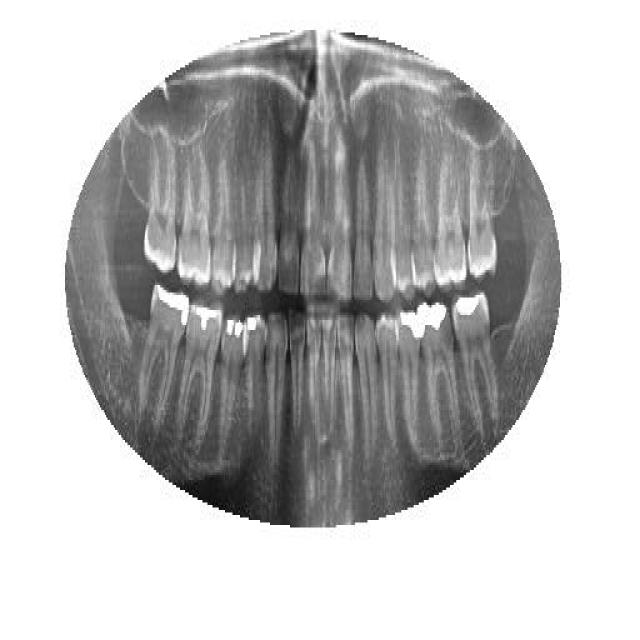Fillings: (135, 282, 190, 430), (452, 288, 500, 430), (419, 295, 461, 447), (188, 300, 222, 440), (218, 312, 248, 462), (396, 307, 422, 455), (245, 312, 267, 442)
